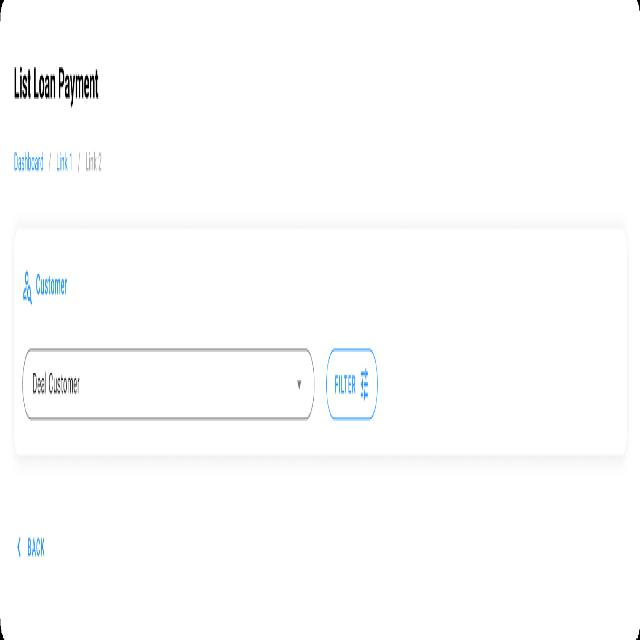QLabel: (13, 53, 103, 110), (35, 271, 69, 305), (332, 365, 358, 401), (27, 534, 45, 562)
VBreadcrumbs: (12, 142, 107, 186)
VBtn: (326, 346, 378, 420), (13, 518, 52, 584)
VCard: (14, 222, 626, 460)
VCombobox: (22, 346, 315, 422)
VIcon: (21, 265, 33, 318), (358, 367, 369, 405), (16, 534, 22, 562)
